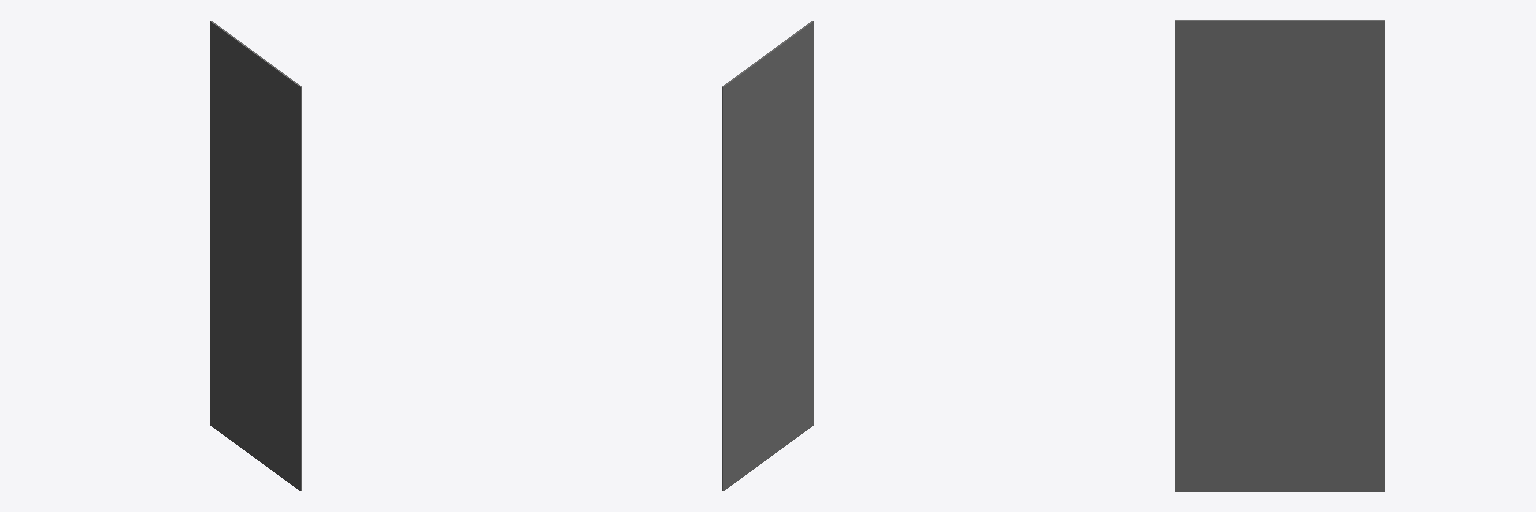
robot.urdf — elevator_call_panel_eng2_fixed:
<?xml version="1.0"?>
<robot name="elevator_call_panel_eng2_fixed"
       xmlns:xi="http://www.w3.org/2001/XInclude"
       >
  <gazebo>
    <static>false</static>
  </gazebo>
  <link name="nil_link">
    <visual>
      <origin xyz="0 0 0" rpy="0 -0 0"/>
      <geometry>
        <mesh filename="model://elevator_call_panel_eng2/meshes/nil_link_mesh.dae" scale="1 1 1" />
      </geometry>
    </visual>
    <collision>
      <origin xyz="0 0 0" rpy="0 -0 0"/>
      <geometry>
        <mesh filename="model://elevator_call_panel_eng2/meshes/nil_link_mesh.dae" scale="1 1 1" />
      </geometry>
    </collision>
    <inertial>
      <mass value="0.001" />
      <origin xyz="0 0 0" rpy="0 -0 0"/>
      <inertia ixx="1e-03" ixy="0" ixz="0" iyy="1e-03" iyz="0" izz="1e-03"/>
    </inertial>
  </link>
  <gazebo reference="nil_link">
    <mu1>0.9</mu1>
    <mu2>0.9</mu2>
  </gazebo>
  <!-- Used for fixing robot to Gazebo 'base_link' -->
  <link name="world"/>
  <joint name="fixed" type="fixed">
    <parent link="world"/>
    <child link="nil_link"/>
  </joint>
</robot>

--- What the picture shows (computed from the rendered views, not written in the file) ---
Views: 3 orthographic renders of the robot side by side, from view 1: azimuth 30°, elevation 25°; view 2: azimuth 150°, elevation 25°; view 3: azimuth 270°, elevation 25°.
Model elevator_call_panel_eng2_fixed with 2 links and 1 joints (1 fixed), rooted at world, posed every joint at zero.
Links seen in each view (by area): view 1: nil_link; view 2: nil_link; view 3: nil_link.
Link boxes in pixels (x1=…): nil_link: x1=210, y1=21, x2=301, y2=490; nil_link: x1=722, y1=21, x2=813, y2=490; nil_link: x1=1175, y1=20, x2=1384, y2=491.
Size in the robot's own frame: 0.001 by 0.098 by 0.241 metres.
Meshes: 1 distinct files referenced, 1 mesh visuals loaded (1 Collada DAE).